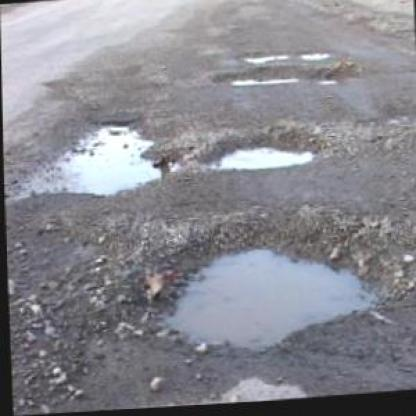pothole: (122, 204, 404, 365), (48, 111, 178, 200), (193, 129, 320, 176), (208, 62, 358, 97), (236, 47, 340, 67)
